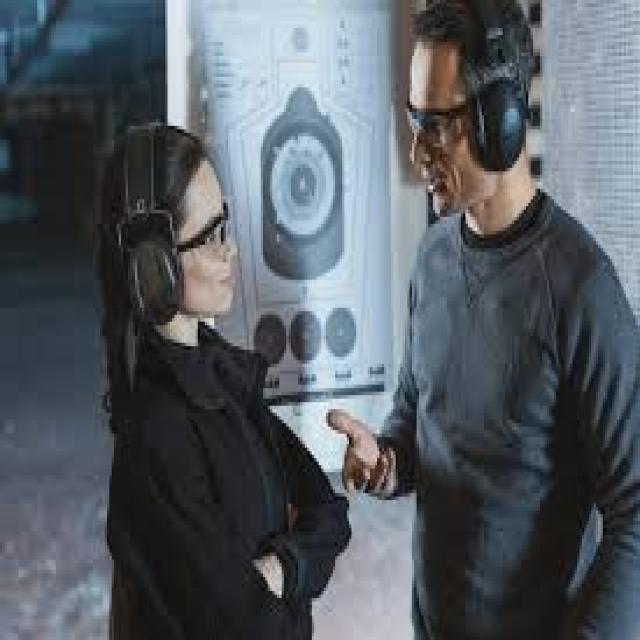Ear-protection: (115, 112, 186, 324), (455, 0, 531, 175)
person: (348, 0, 635, 638), (59, 94, 313, 640)
